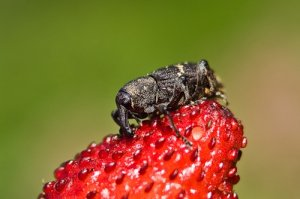dolgonosik: (109, 57, 241, 148)
